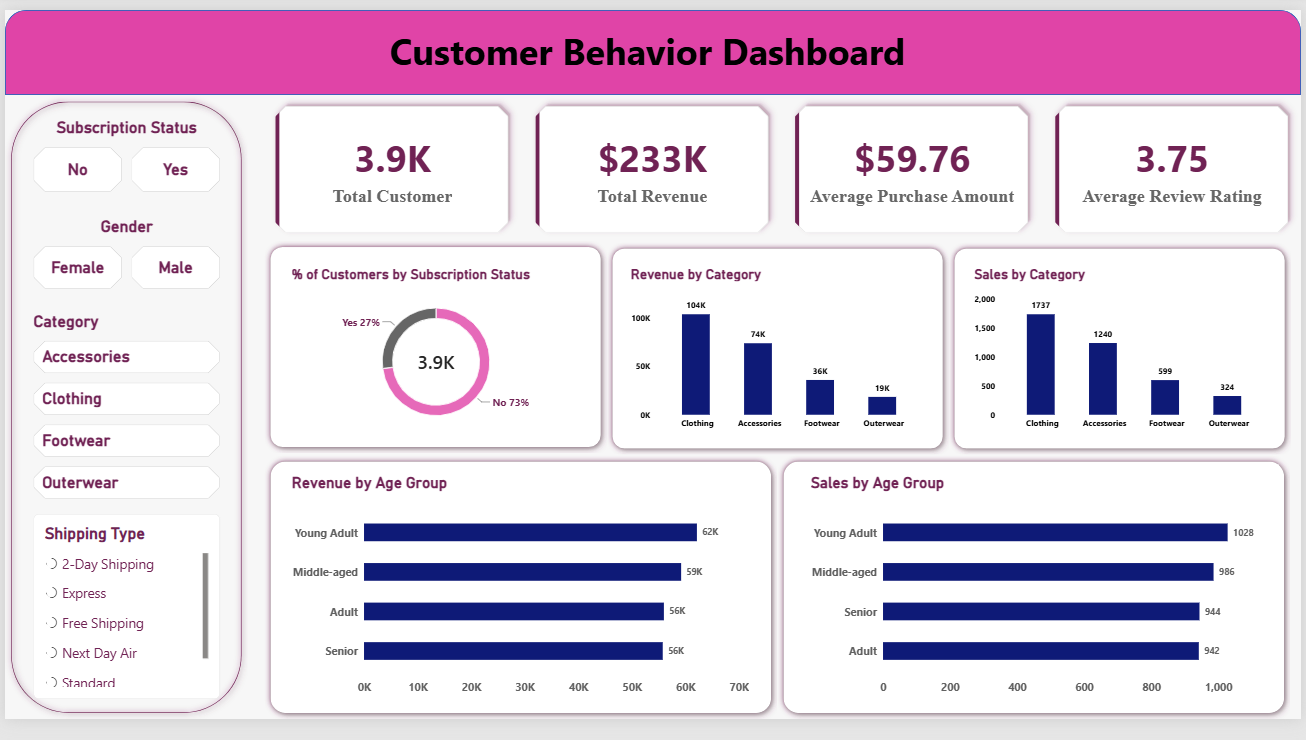

Layout of this report page (visuals, bound fields, positions):
{"tool":"powerbi","page":{"name":"Page 1","canvas":[1920,1050],"ordinal":0},"visuals":[{"type":"shape","box":[1397.6,345.2,507.1,314.3],"z":0},{"type":"shape","box":[890.5,345.2,507.1,314.3],"z":1000},{"type":"cardVisual","fields":{"Data":["customer_behavior customer_shopping_behavior.Number of Customer","customer_behavior customer_shopping_behavior.Total Revenue","customer_behavior customer_shopping_behavior.Average Purchase Amount","customer_behavior customer_shopping_behavior.Average Review Rating"]},"box":[383.3,126.2,1535.7,219],"z":2000},{"type":"shape","box":[0,0,1920,126],"z":3000},{"type":"textbox","box":[0,24,1904,102],"z":4000},{"type":"shape","box":[383.3,342.9,507.1,314.3],"z":5000},{"type":"donutChart","title":"% of Customers by Subscription Status","fields":{"Category":["customer_behavior customer_shopping_behavior.subscription_status"],"Y":["CountNonNull(customer_behavior customer_shopping_behavior.customer_id)"]},"box":[409.5,364.3,459.5,276.2],"z":6000},{"type":"clusteredColumnChart","title":"Revenue by Category","fields":{"Category":["customer_behavior customer_shopping_behavior.category"],"Y":["Sum(customer_behavior customer_shopping_behavior.purchase_amount)"]},"box":[911.9,364.3,466.7,276.2],"z":7000},{"type":"clusteredColumnChart","title":"Sales by Category","fields":{"Category":["customer_behavior customer_shopping_behavior.category"],"Y":["CountNonNull(customer_behavior customer_shopping_behavior.customer_id)"]},"box":[1419,364.3,469,276.2],"z":8000},{"type":"shape","box":[0,126.2,359.5,923.8],"z":9000},{"type":"advancedSlicerVisual","fields":{"Values":["customer_behavior customer_shopping_behavior.subscription_status"]},"box":[42.9,159.5,276.2,109.5],"z":10000},{"type":"advancedSlicerVisual","fields":{"Values":["customer_behavior customer_shopping_behavior.gender"]},"box":[42.9,307.1,276.2,107.1],"z":11000},{"type":"advancedSlicerVisual","fields":{"Values":["customer_behavior customer_shopping_behavior.category"]},"box":[42.9,447.6,276.2,278.6],"z":12000},{"type":"listSlicer","fields":{"Values":["customer_behavior customer_shopping_behavior.shipping_type"]},"box":[42.9,747.6,276.2,273.8],"z":12002},{"type":"shape","box":[383.3,659.5,759.5,390.5],"z":12003},{"type":"clusteredBarChart","title":"Revenue by Age Group","fields":{"Category":["customer_behavior customer_shopping_behavior.age_group"],"Y":["Sum(customer_behavior customer_shopping_behavior.purchase_amount)"]},"box":[409.5,673.8,709.5,361.9],"z":12004},{"type":"shape","box":[1145.2,659.5,759.5,390.5],"z":12005},{"type":"clusteredBarChart","title":"Sales by Age Group","fields":{"Category":["customer_behavior customer_shopping_behavior.age_group"],"Y":["CountNonNull(customer_behavior customer_shopping_behavior.customer_id)"]},"box":[1178.6,673.8,709.5,361.9],"z":12006}]}

Visuals, with their boxes on the page's 1920x1050 design canvas (x1, y1, x2, y2). These are canvas units, not pixel positions in the 1306x740 screenshot, which may show the page scaled, cropped or inside an application window:
shape: crop(1398, 345, 1905, 660)
shape: crop(890, 345, 1398, 660)
cardVisual - customer_behavior customer_shopping_behavior.Number of Customer x customer_behavior customer_shopping_behavior.Total Revenue: crop(383, 126, 1919, 345)
shape: crop(0, 0, 1920, 126)
textbox: crop(0, 24, 1904, 126)
shape: crop(383, 343, 890, 657)
"% of Customers by Subscription Status" donutChart: crop(410, 364, 869, 640)
"Revenue by Category" clusteredColumnChart: crop(912, 364, 1379, 640)
"Sales by Category" clusteredColumnChart: crop(1419, 364, 1888, 640)
shape: crop(0, 126, 360, 1050)
advancedSlicerVisual - customer_behavior customer_shopping_behavior.subscription_status: crop(43, 160, 319, 269)
advancedSlicerVisual - customer_behavior customer_shopping_behavior.gender: crop(43, 307, 319, 414)
advancedSlicerVisual - customer_behavior customer_shopping_behavior.category: crop(43, 448, 319, 726)
listSlicer - customer_behavior customer_shopping_behavior.shipping_type: crop(43, 748, 319, 1021)
shape: crop(383, 660, 1143, 1050)
"Revenue by Age Group" clusteredBarChart: crop(410, 674, 1119, 1036)
shape: crop(1145, 660, 1905, 1050)
"Sales by Age Group" clusteredBarChart: crop(1179, 674, 1888, 1036)
